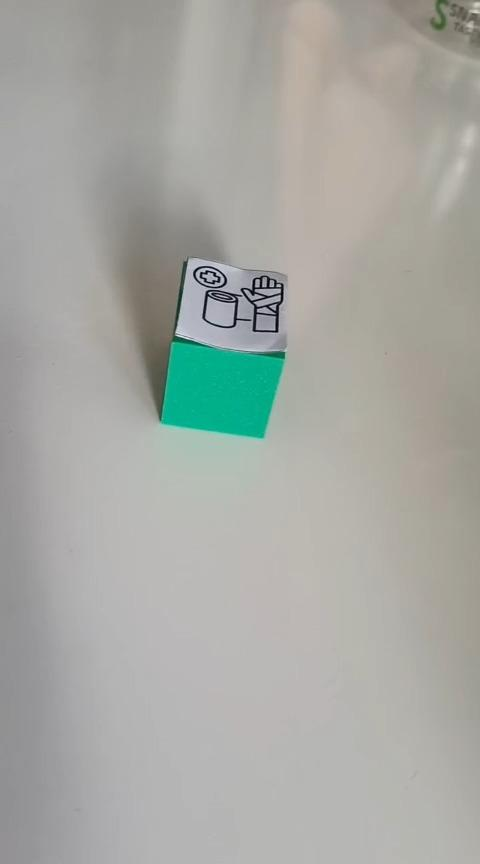Bandages: (158, 255, 288, 439)
